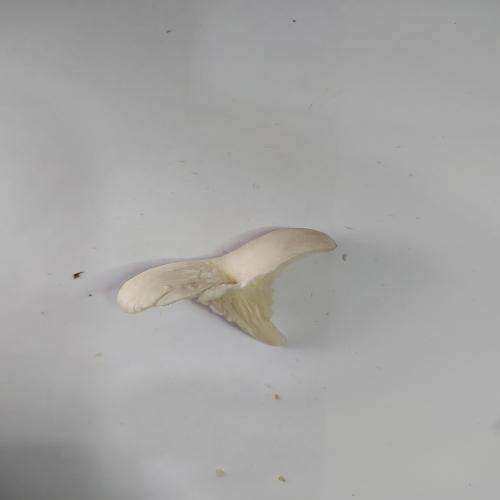Oyster Mushroom: (116, 226, 338, 347)
